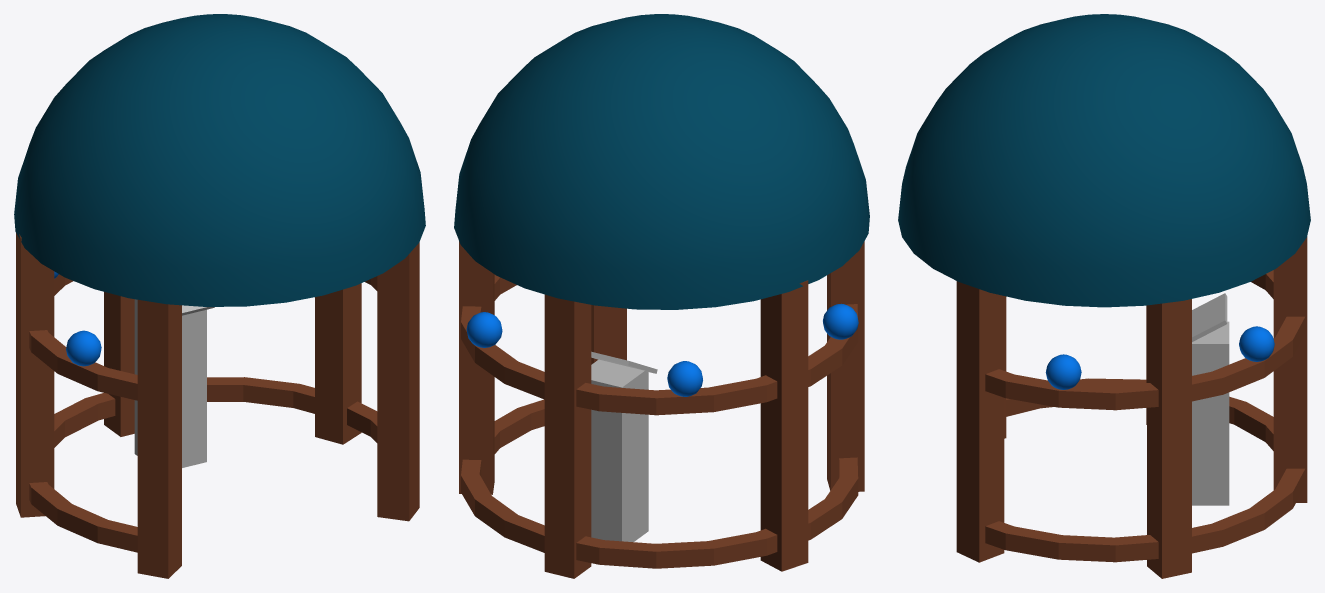
The model's file is titanBuilding.fbx.
3 renders of one model, left to right at view 1: azimuth 30°, elevation 25°; view 2: azimuth 150°, elevation 25°; view 3: azimuth 270°, elevation 25°, orthographic.
Parts seen in each view (by area): view 1: Sphere.004; view 2: Sphere.004; view 3: Sphere.004.
Part boxes in pixels (box(x1,y1,x2,y2)): Sphere.004: box(14, 14, 425, 578); Sphere.004: box(454, 14, 869, 578); Sphere.004: box(898, 14, 1310, 578).
Size of the model in its own units: 408 by 505 by 408.
